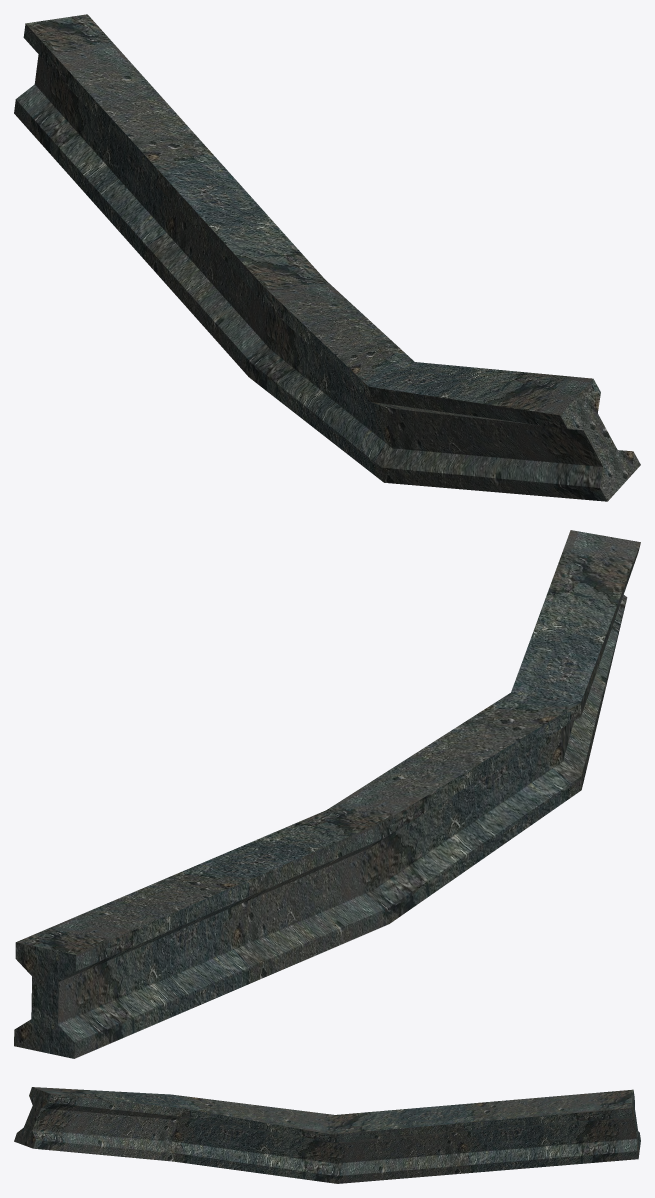
The model's file is prop_rubble_bar_big_01.glb.
The picture shows the model from 3 angles, top to bottom: view 1: azimuth 30°, elevation 25°; view 2: azimuth 150°, elevation 25°; view 3: azimuth 270°, elevation 25°; orthographic projection. The views are drawn at different scales.
Size of the model in its own units: 12.98 by 14.45 by 84.66.
1 material, 1 textured.
